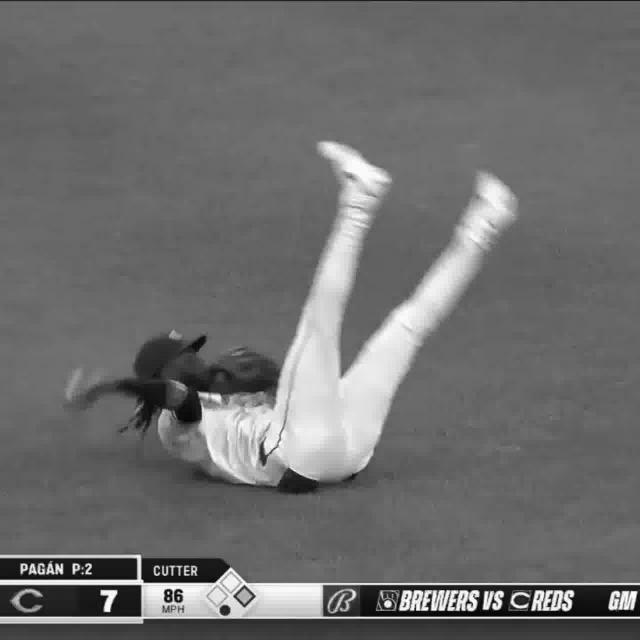baseball_glove: (208, 346, 283, 390), (64, 376, 83, 394)
shoe: (308, 137, 388, 201), (470, 168, 533, 232)
